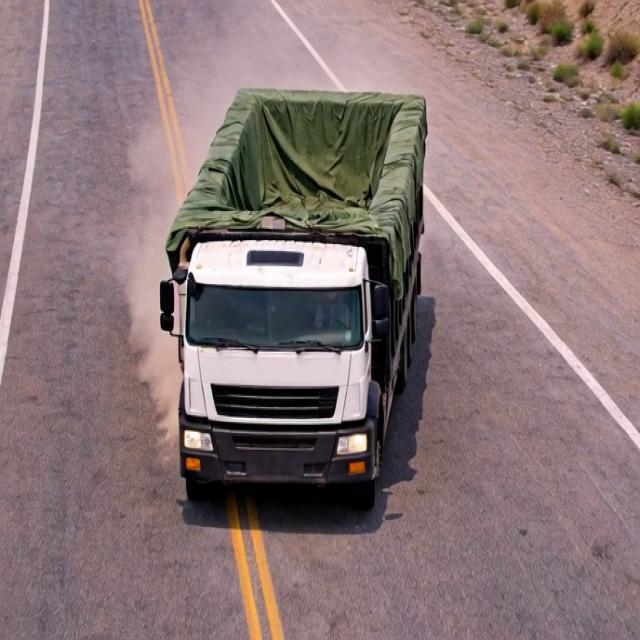trailer: (162, 83, 444, 248)
